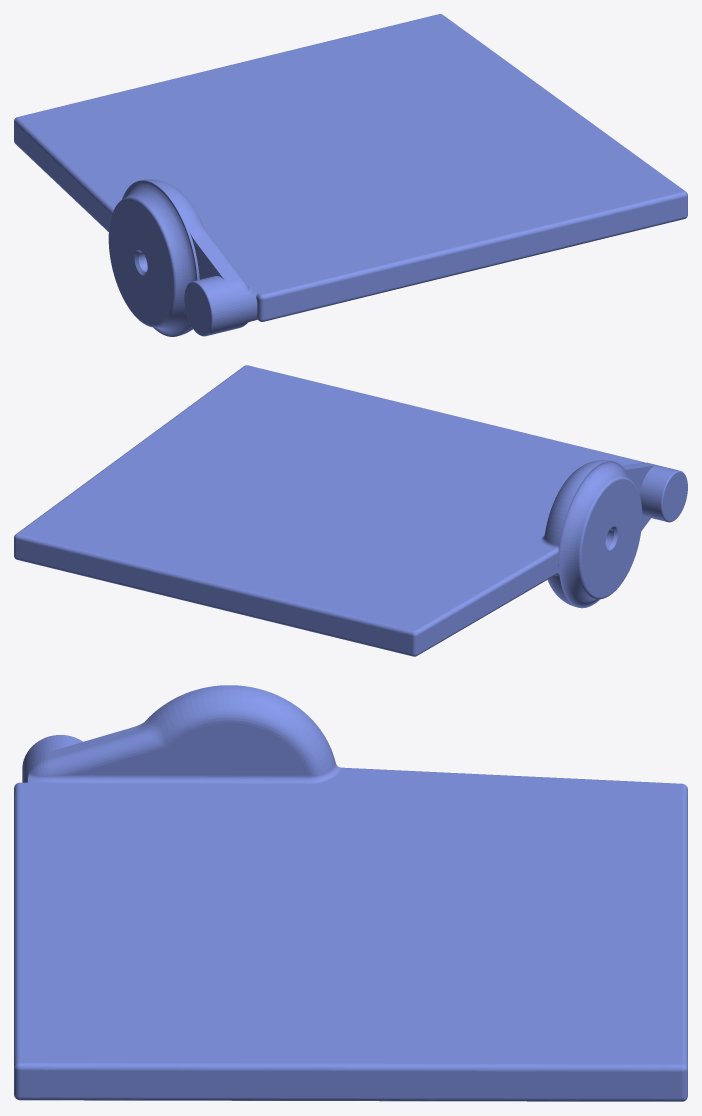
The model's file is StromeyerPlate.fbx.
3 views of the same model, one above another, from view 1: azimuth 30°, elevation 25°; view 2: azimuth 150°, elevation 25°; view 3: azimuth 270°, elevation 25° (orthographic). The views are drawn at different scales.
Parts seen in each view (by area): view 1: Stromeyer Platte; view 2: Stromeyer Platte; view 3: Stromeyer Platte.
Part boxes in pixels (x1,y1,x2,y2): Stromeyer Platte: (14,14,687,336); Stromeyer Platte: (14,365,687,656); Stromeyer Platte: (14,685,687,1101).
Size of the model in its own units: 8850 by 2584 by 8001.
